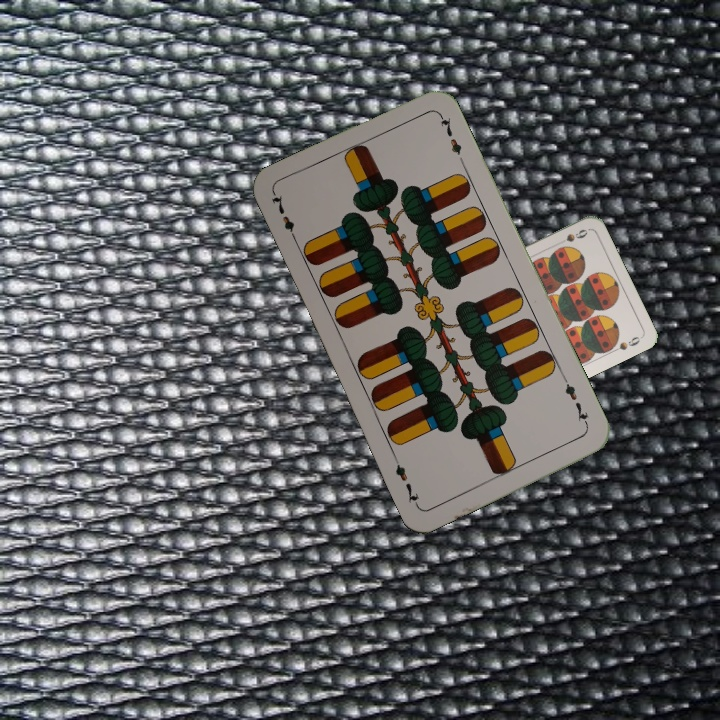E7: (559, 373, 592, 429), (267, 190, 300, 246)
S9: (551, 225, 590, 248)
